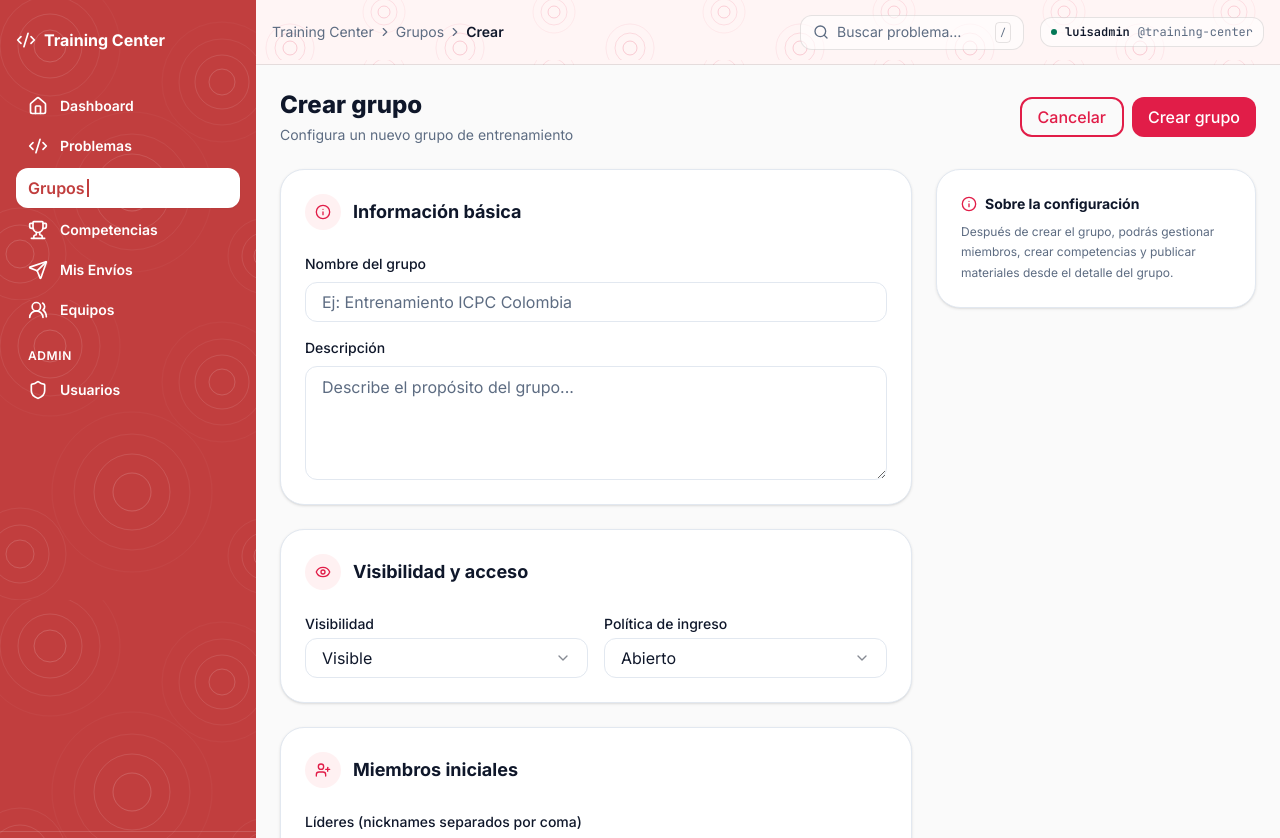
Scenario: GroupFormPage › shows validation error on empty name submit
The width and height of the screenshot is (1280, 838).
Step 1. Click the button "Crear grupo" → (1194, 117), box [1132,97,1256,137]
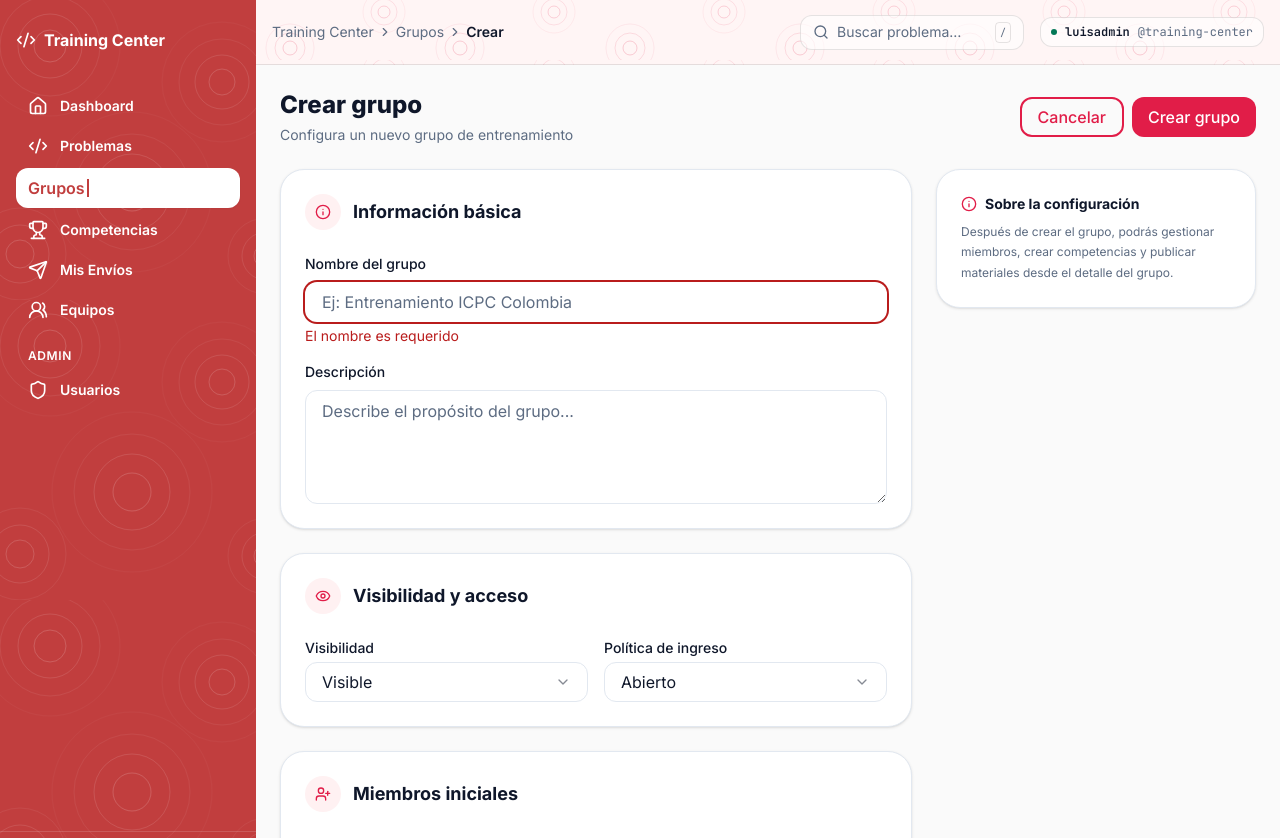
Expected: the text "El nombre es requerido" is shown, [305,327,459,344]
